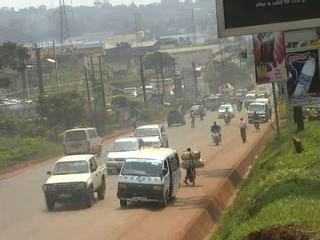Car: (43, 153, 108, 212), (105, 136, 146, 173), (165, 107, 187, 128), (217, 103, 237, 119), (190, 101, 208, 117)
Motorcycle: (210, 129, 221, 146), (223, 113, 231, 124), (235, 101, 243, 111)
